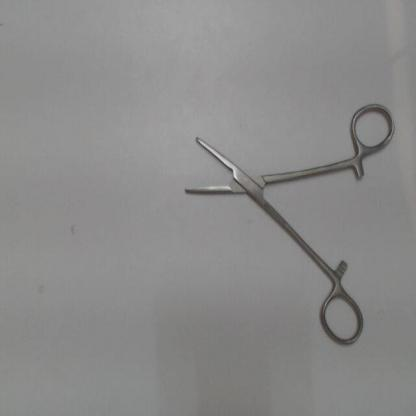Mayo Needle Holder: (178, 96, 400, 352)
